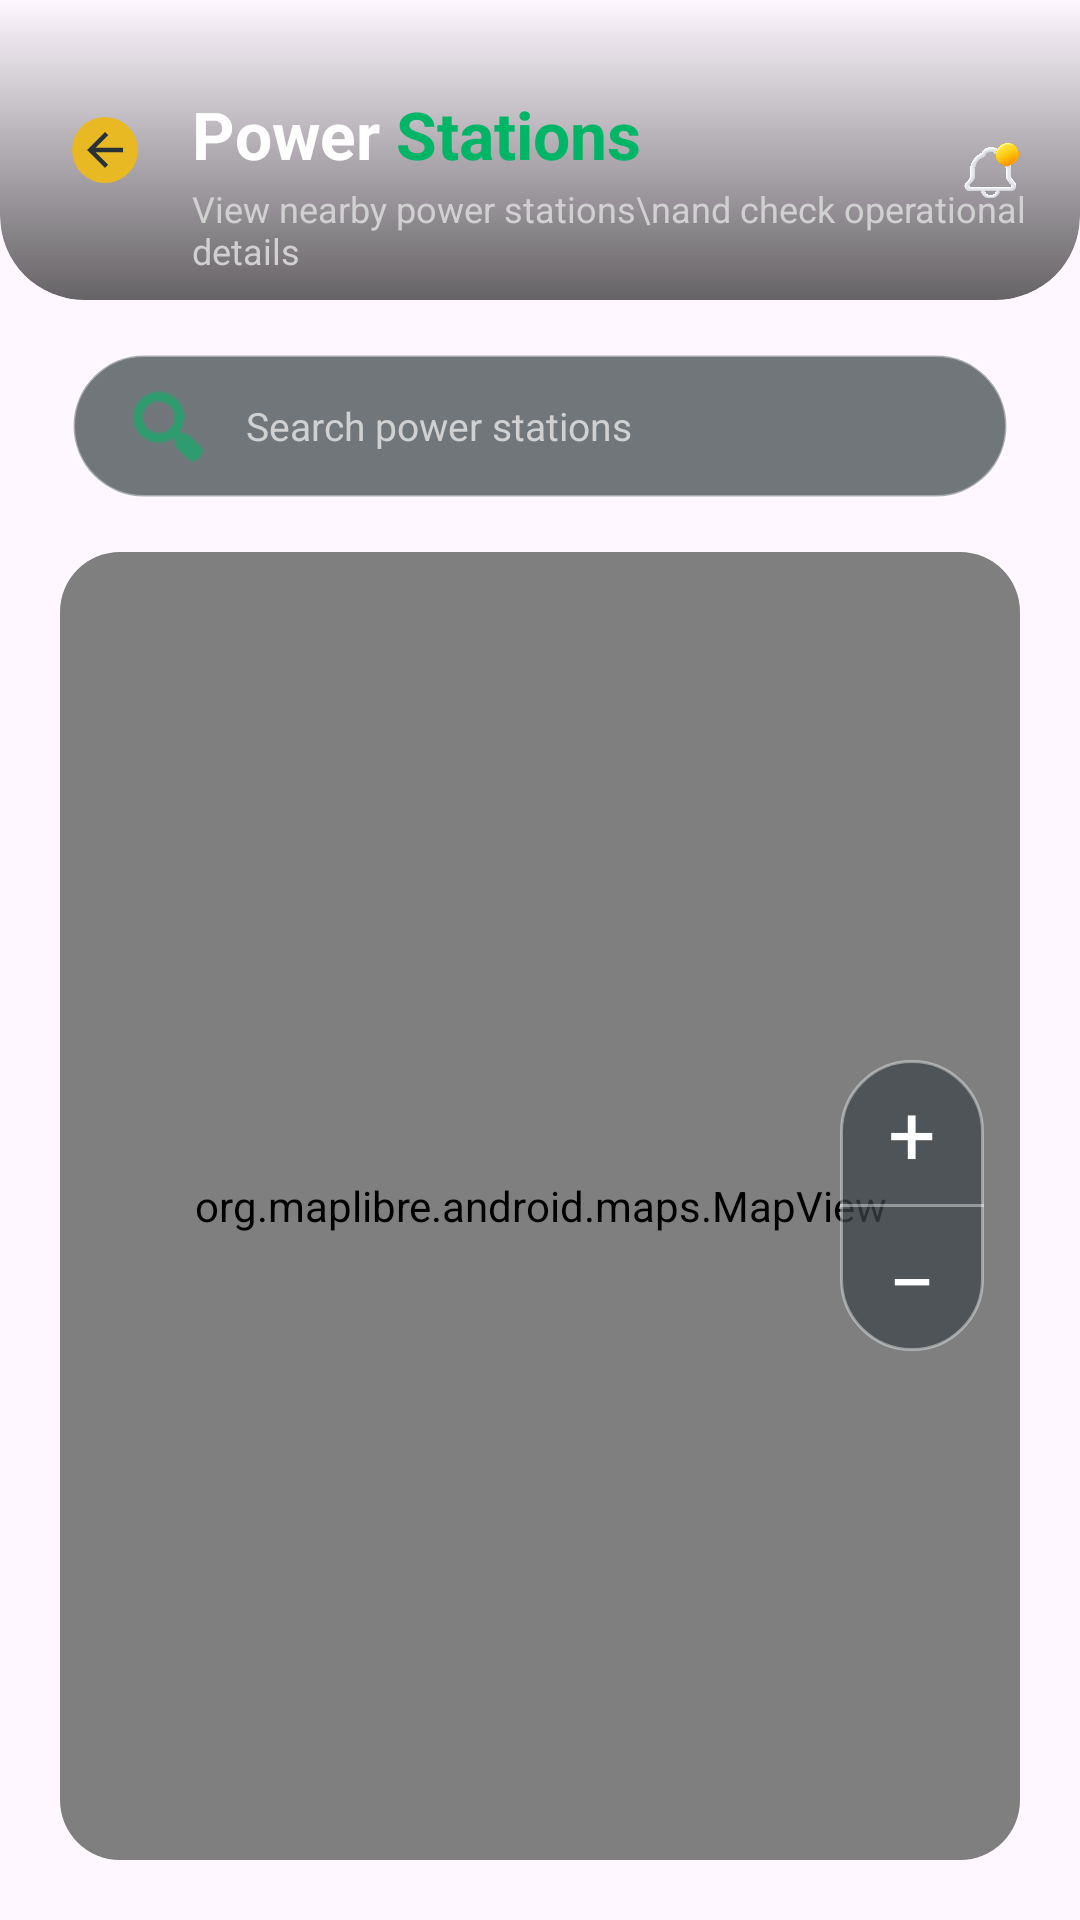

Icons on this 1080w x 1920h Android screen, each with the point to tap as [x,y]:
Go back: [105,150]
